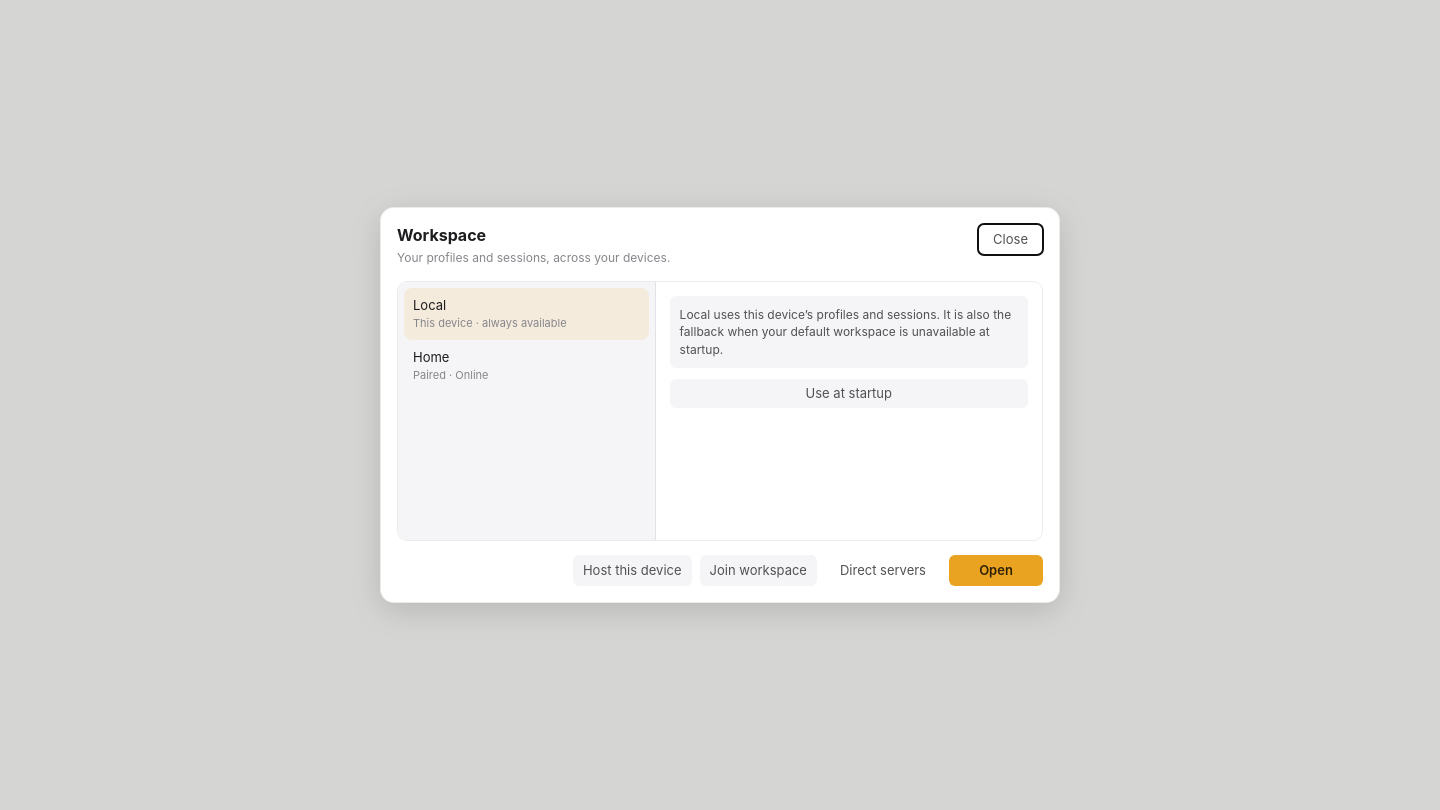
it: opens a fresh invitation form after revoking this device and rejoins the saved workspace
The width and height of the screenshot is (1440, 810).
Click the button "Home Paired · Online": {"x": 526, "y": 366} [404, 340, 649, 392]
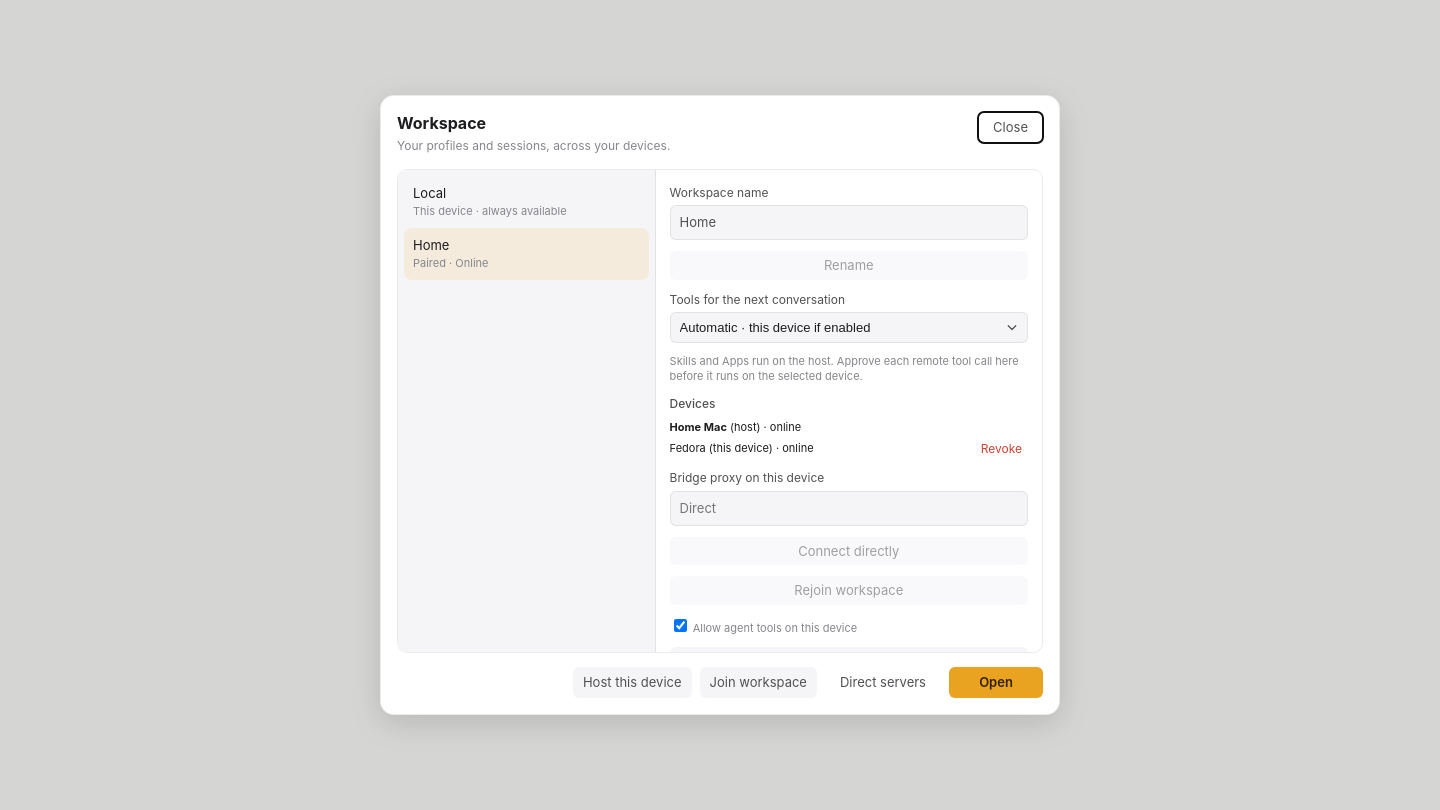
Click the button "Revoke": {"x": 1001, "y": 449} [975, 439, 1028, 458]
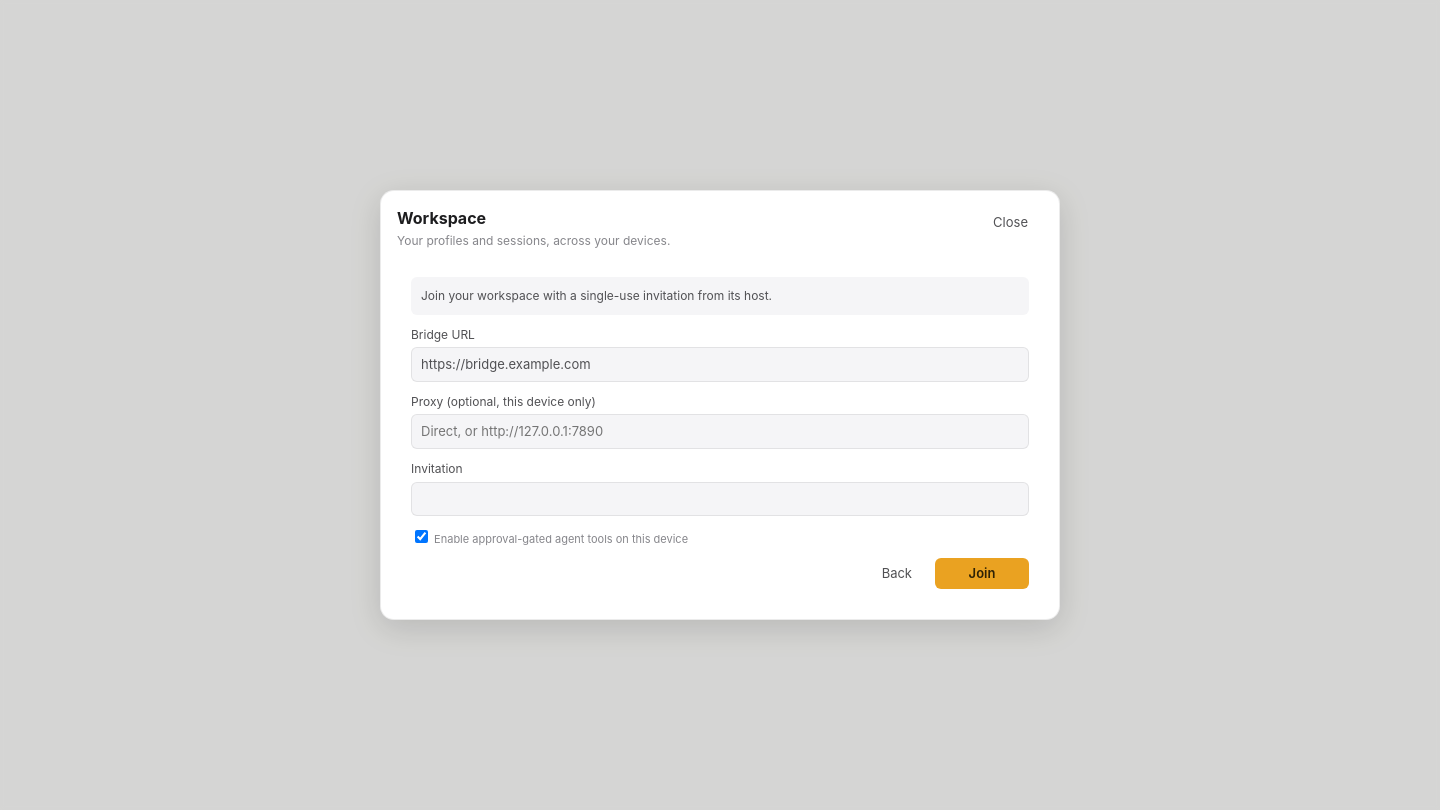
Result: the field labelled "Bridge URL" holds "https://bridge.example.com" at [411, 347, 1029, 382]
Result: the password field labelled "Invitation" is empty
In the password field labelled "Invitation": {"x": 720, "y": 499} [411, 482, 1029, 516], type "fresh-invitation"
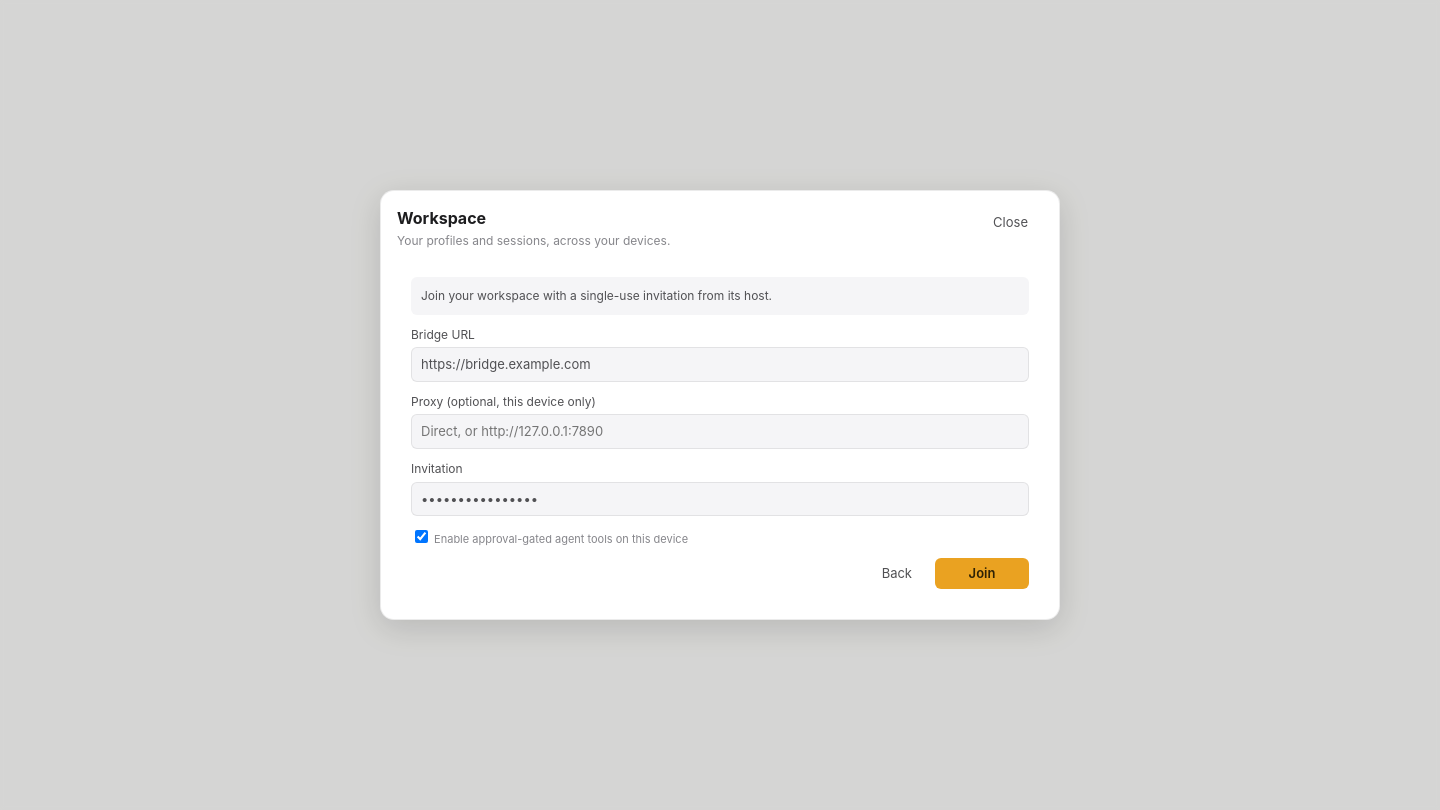
Click the button "Join": {"x": 982, "y": 574} [935, 558, 1029, 589]
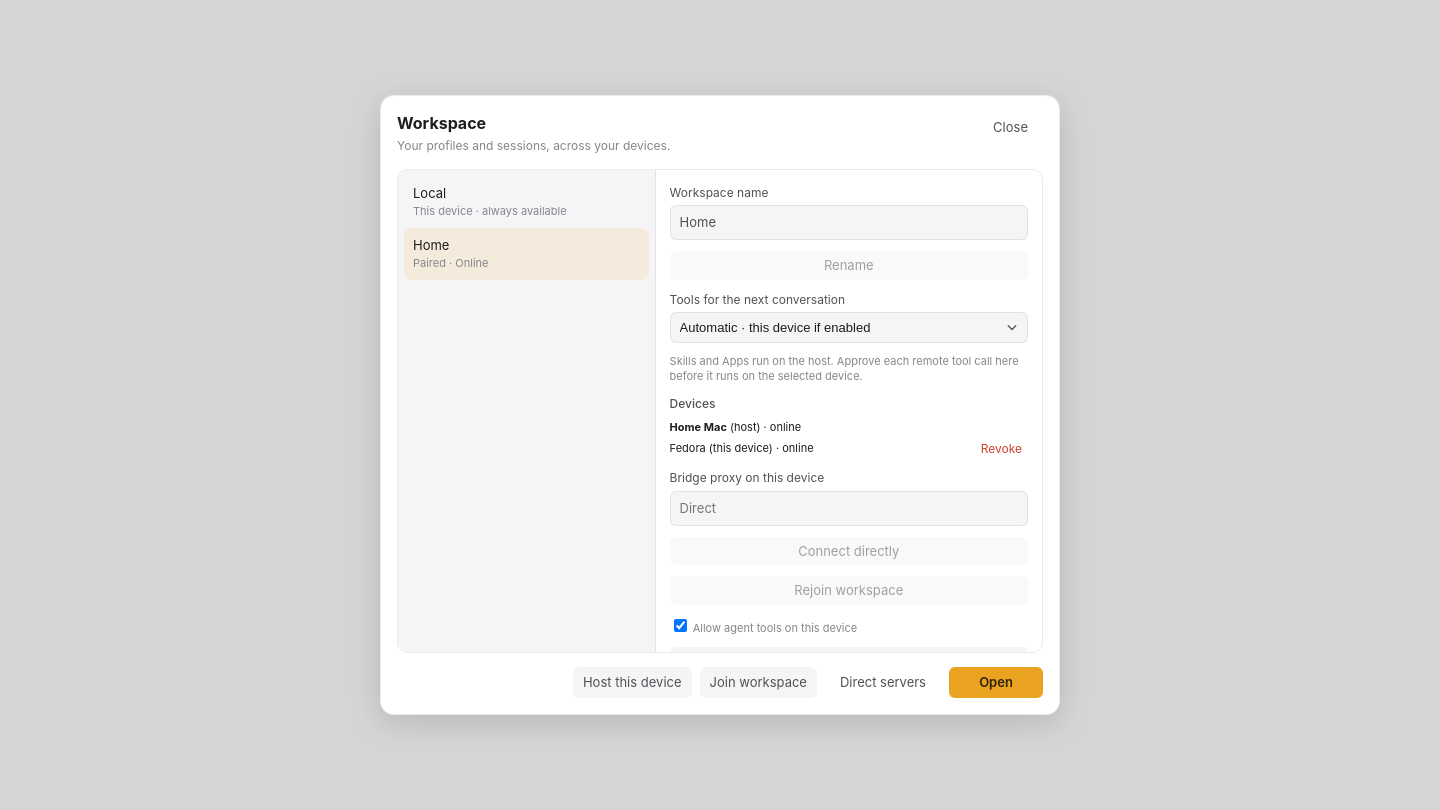
Result: the button "Home Paired · Online" is shown at [404, 228, 649, 280]
